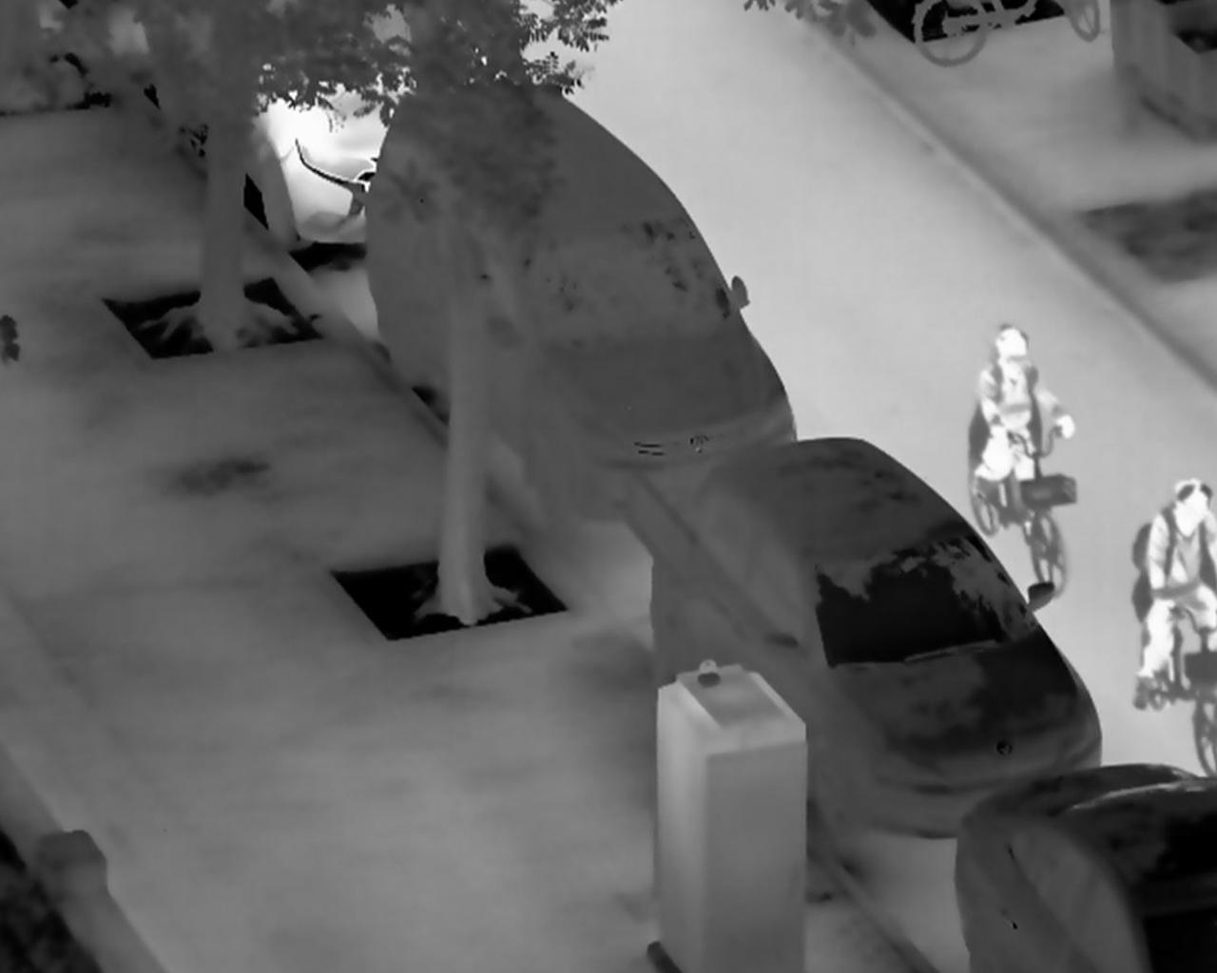person: (970, 321, 1079, 510), (1135, 475, 1217, 714)
